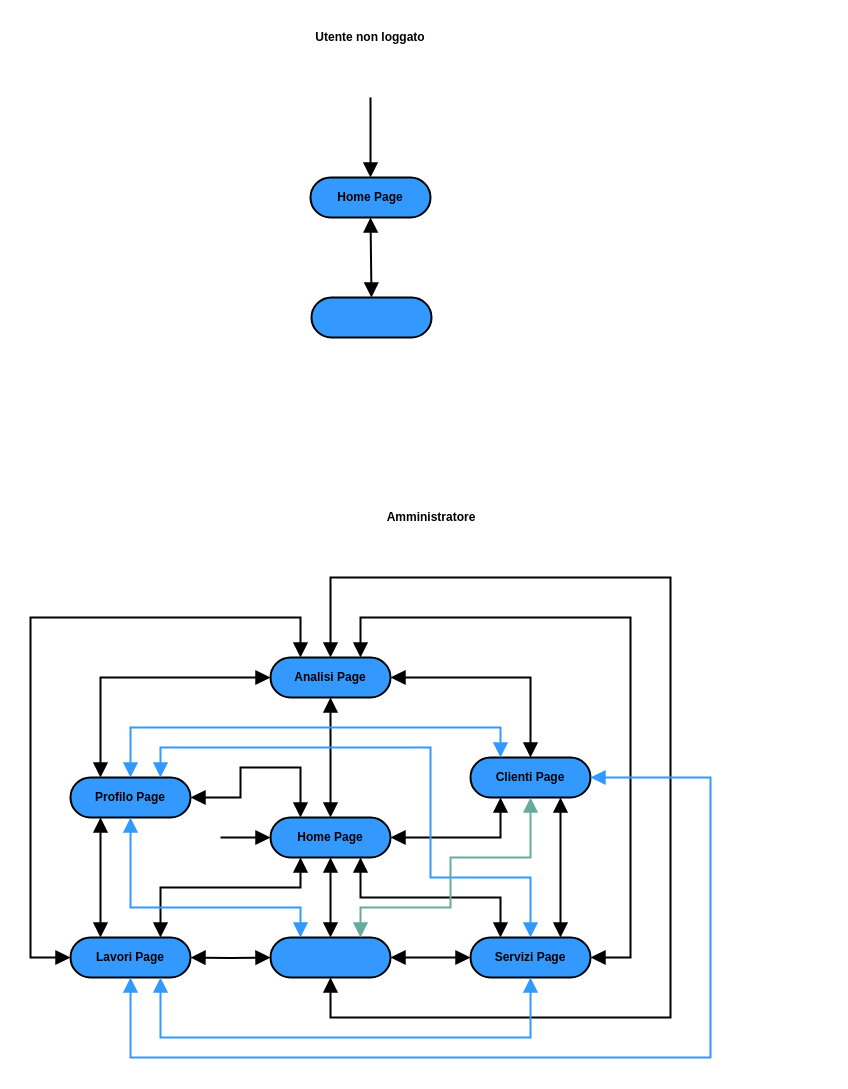
Image size: 848x1089. Some labels were removed from this diagram. Each missing label, with the centre of its shape:
"Login Page" belongs at [371,317].
"Spese Page" belongs at [330,957].
